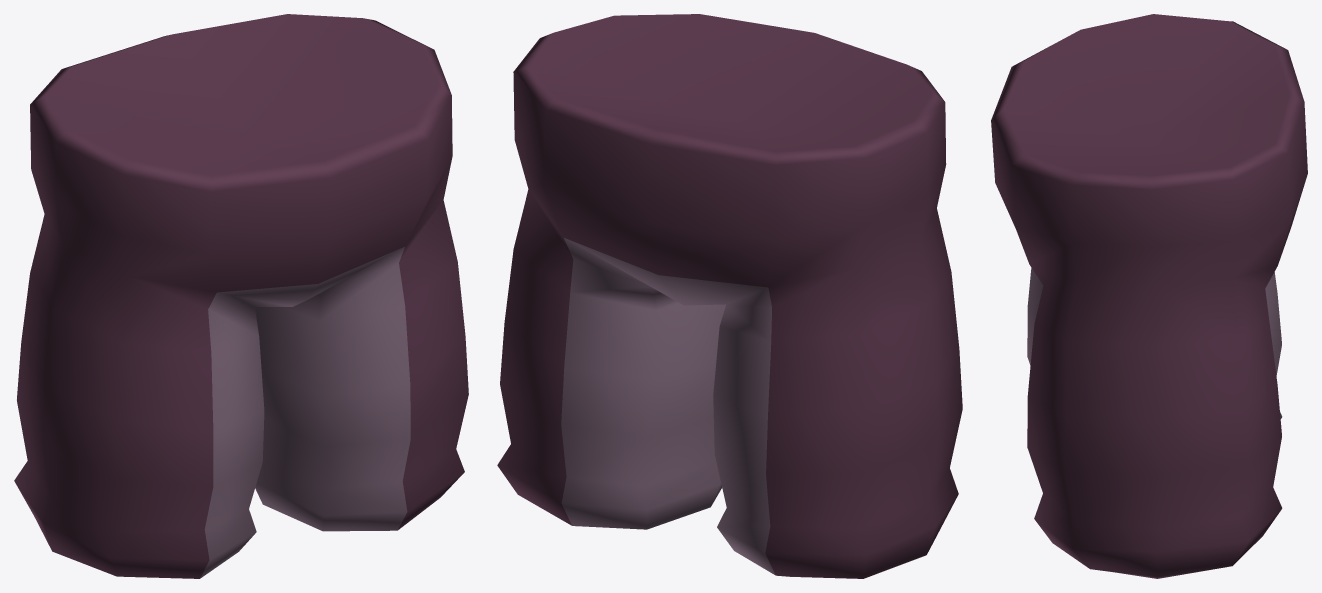
File: Bottom_25.fbx
3 views of the same model, side by side, from view 1: azimuth 30°, elevation 25°; view 2: azimuth 150°, elevation 25°; view 3: azimuth 270°, elevation 25° (orthographic). The views are drawn at different scales.
Visible parts, largest first — view 1: Bottom_25; view 2: Bottom_25; view 3: Bottom_25.
Boxes of the visible parts, left/top/right/bottom form: Bottom_25: left=14, top=14, right=468, bottom=578; Bottom_25: left=497, top=14, right=962, bottom=578; Bottom_25: left=991, top=14, right=1307, bottom=578.
Bounding box in the file's own units: 40.89 × 42.48 × 29.68.
